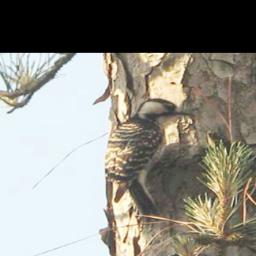Woodpecker: (103, 97, 196, 219)
